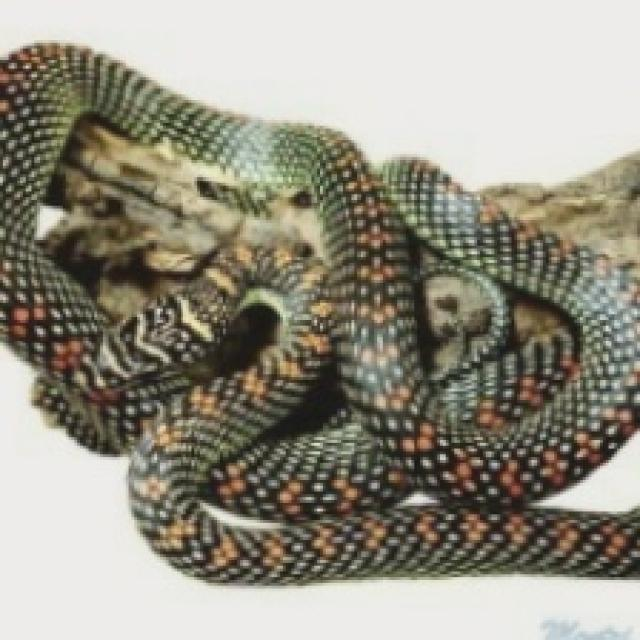paradise tree snake: (0, 46, 637, 580)
